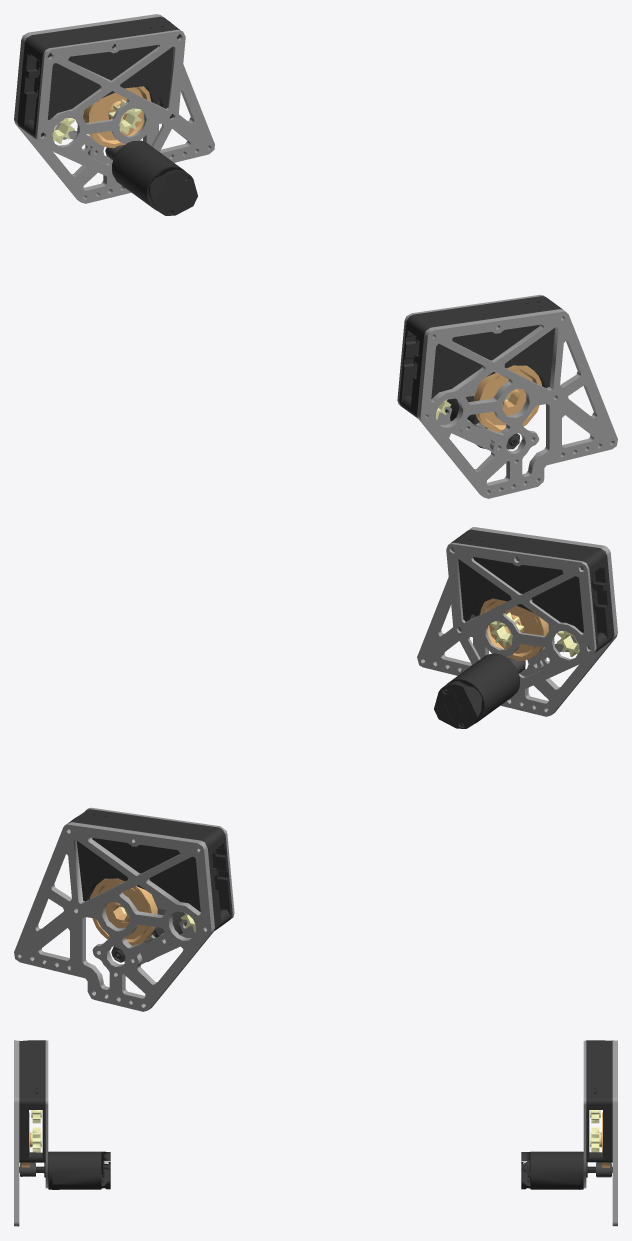
The model's file is 581-mount.glb.
3 views of the same model, one above another, from view 1: azimuth 30°, elevation 25°; view 2: azimuth 150°, elevation 25°; view 3: azimuth 270°, elevation 25° (orthographic). The views are drawn at different scales.
Parts seen in each view (by area): view 1: Inside Deploy Plate, Left Outside Slider Block, Kraken X44 Brushless Motor-Mirrored, 50T 20DP 1/2" Alum Dished, 10T Aluminum Spur Gear (10 DP, 1/2" Hex) (WCP-0552); view 2: Inside Deploy Plate, Left Outside Slider Block, Kraken X44 Brushless Motor-Mirrored, 50T 20DP 1/2" Alum Dished, 10T Aluminum Spur Gear (10 DP, 1/2" Hex) (WCP-0552); view 3: Left Outside Slider Block, Kraken X44 Brushless Motor-Mirrored, Inside Deploy Plate, 10T Aluminum Spur Gear (10 DP, 1/2" Hex) (WCP-0552), 10T on 12T Kraken.
Part boxes in pixels (x1,y1,x2,y2): Inside Deploy Plate: (14,14,617,498); Left Outside Slider Block: (17,16,562,418); Kraken X44 Brushless Motor-Mirrored: (112,140,517,448); 50T 20DP 1/2" Alum Dished: (83,86,541,432); 10T Aluminum Spur Gear (10 DP, 1/2" Hex) (WCP-0552): (52,99,511,419); Inside Deploy Plate: (14,527,617,1011); Left Outside Slider Block: (69,529,614,930); Kraken X44 Brushless Motor-Mirrored: (114,653,519,961); 50T 20DP 1/2" Alum Dished: (90,598,548,945); 10T Aluminum Spur Gear (10 DP, 1/2" Hex) (WCP-0552): (120,612,579,932); Left Outside Slider Block: (19,1040,612,1162); Kraken X44 Brushless Motor-Mirrored: (19,1151,612,1189); Inside Deploy Plate: (14,1040,617,1226); 10T Aluminum Spur Gear (10 DP, 1/2" Hex) (WCP-0552): (31,1110,600,1152); 10T on 12T Kraken: (20,1162,611,1177).
Bounding box in the file's own units: 0.2029 × 0.1787 × 0.7239.
